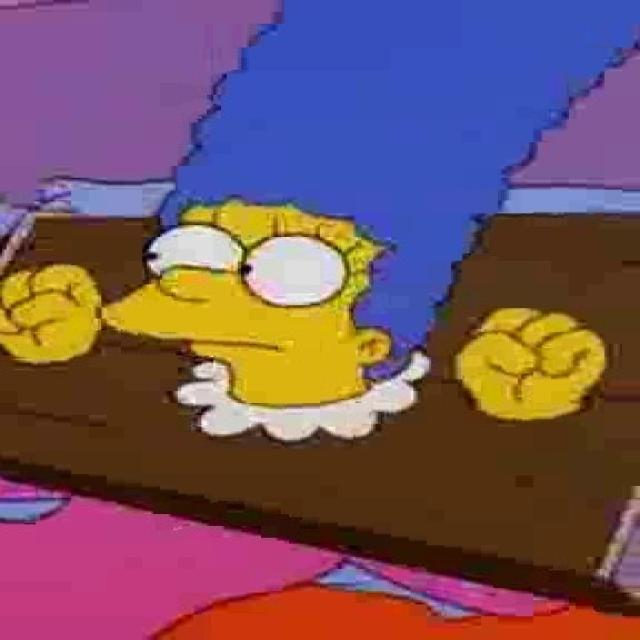Marge Simpson: (95, 0, 640, 443)
